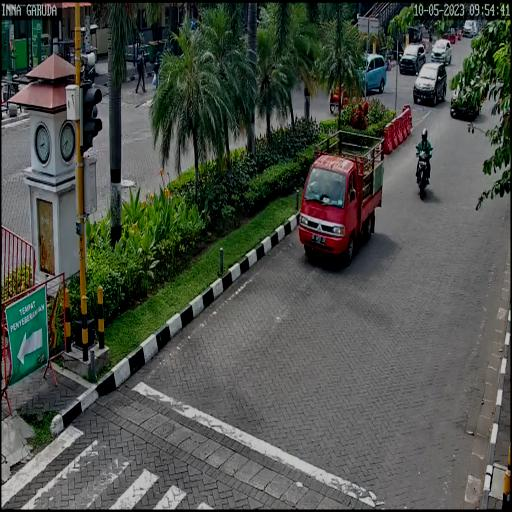mobil: (296, 123, 382, 264)
motor: (413, 139, 436, 205)
